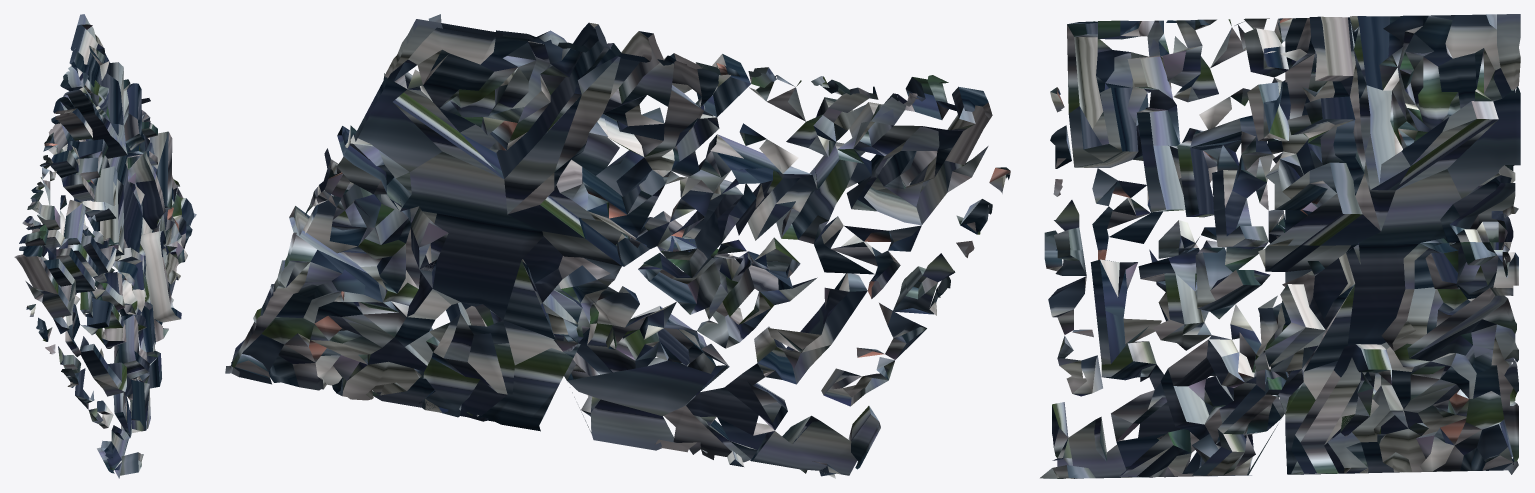
3 renders of one model, left to right at view 1: azimuth 30°, elevation 25°; view 2: azimuth 150°, elevation 25°; view 3: azimuth 270°, elevation 25°, orthographic. The views are drawn at different scales.
Parts seen in each view (by area): view 1: node_3043627270436161_mesh0, node_3043627270436161_mesh1; view 2: node_3043627270436161_mesh0, node_3043627270436161_mesh1; view 3: node_3043627270436161_mesh0, node_3043627270436161_mesh1.
Part boxes in pixels (left/top/right/bottom): node_3043627270436161_mesh0: left=14, top=14, right=194, bottom=478; node_3043627270436161_mesh1: left=22, top=24, right=196, bottom=470; node_3043627270436161_mesh0: left=230, top=19, right=1010, bottom=478; node_3043627270436161_mesh1: left=225, top=14, right=1010, bottom=454; node_3043627270436161_mesh0: left=1040, top=14, right=1520, bottom=478; node_3043627270436161_mesh1: left=1044, top=14, right=1518, bottom=477.
Size of the model in its own units: 555 by 579 by 460.
2 materials, 2 textured.
